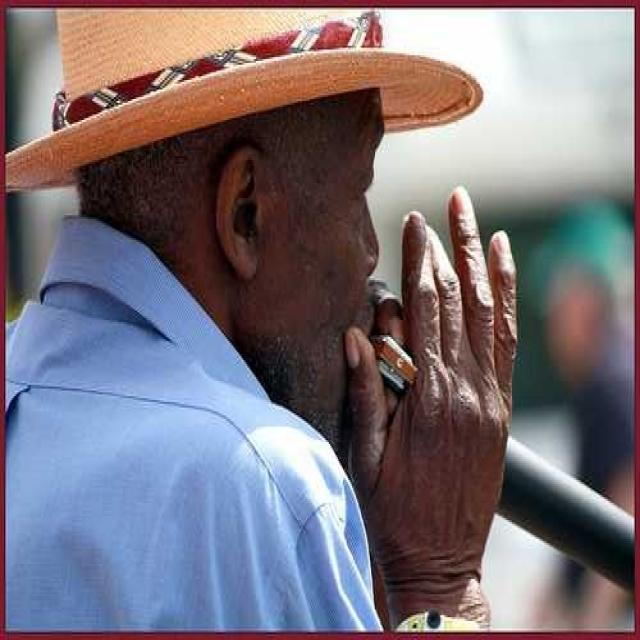microphone: (356, 295, 636, 598)
